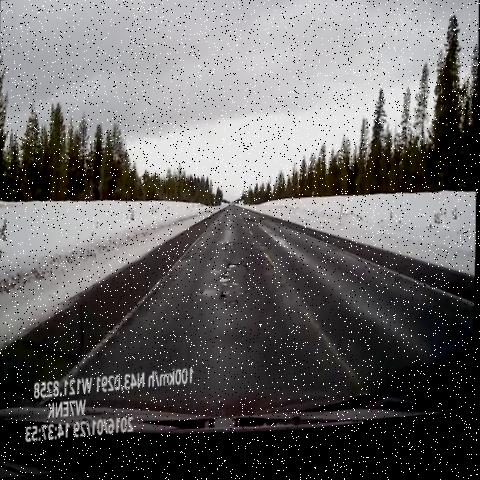pothole: (206, 254, 256, 322), (215, 237, 245, 264), (255, 213, 272, 235), (243, 215, 259, 237), (224, 215, 236, 235)
